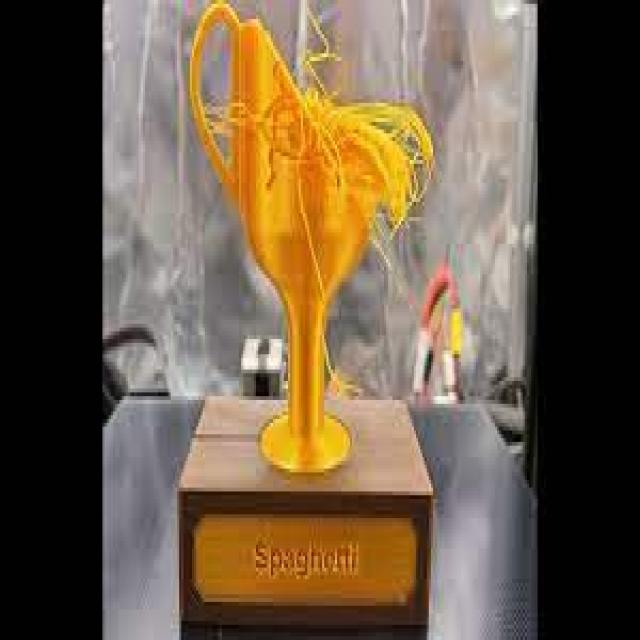spaghetti: (262, 59, 441, 228)
